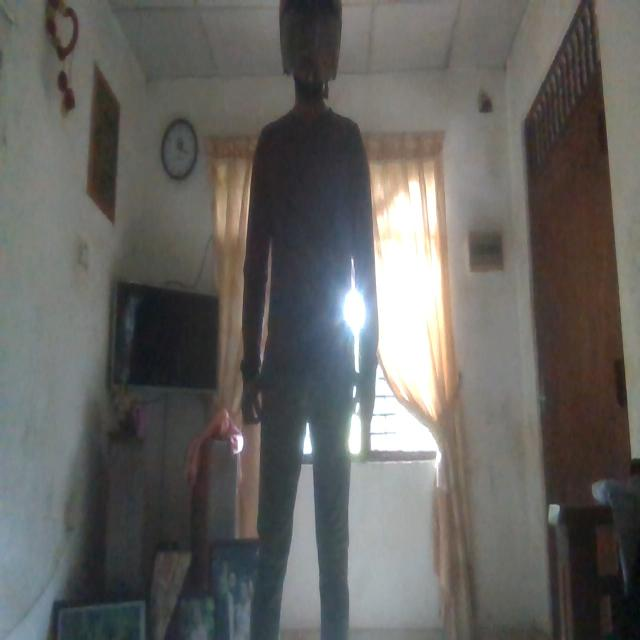Helmet_Wearer: (261, 0, 357, 106)
Person: (245, 2, 380, 640)
